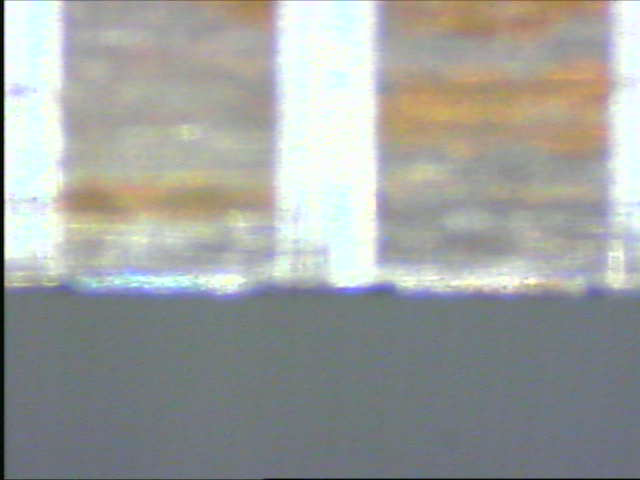line: (271, 1, 381, 264)
